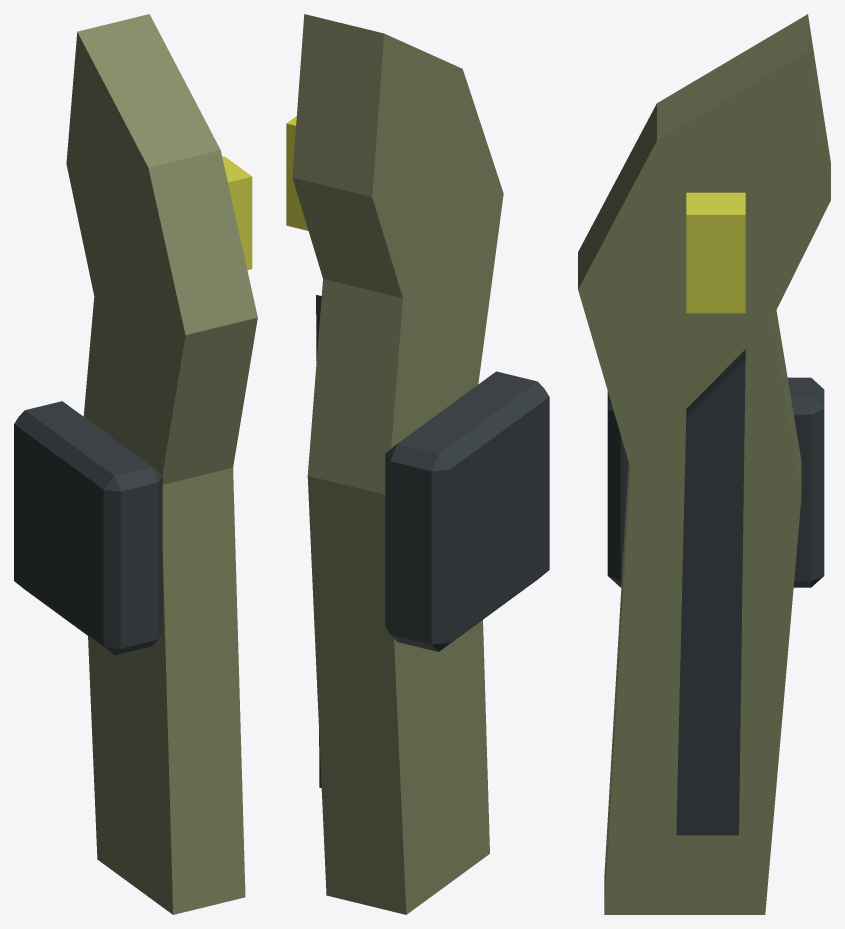
Rendered from person_tool_shock.obj.
3 renders of one model, left to right at view 1: azimuth 30°, elevation 25°; view 2: azimuth 150°, elevation 25°; view 3: azimuth 270°, elevation 25°, orthographic. The views are drawn at different scales.
Parts seen in each view (by area): view 1: person_tool_shock; view 2: person_tool_shock; view 3: person_tool_shock.
Part boxes in pixels (box(x1,y1,x2,y2)): person_tool_shock: box(14, 14, 257, 914); person_tool_shock: box(286, 14, 549, 914); person_tool_shock: box(578, 14, 830, 914).
Size of the model in its own units: 0.067 by 0.29 by 0.077.
